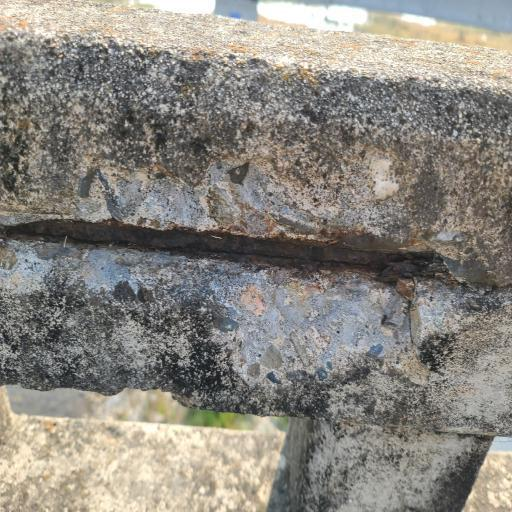exposed_rebar: (0, 219, 495, 284)
